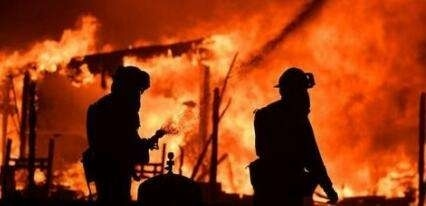fire: (136, 26, 258, 191), (1, 18, 99, 197), (331, 147, 419, 199)
